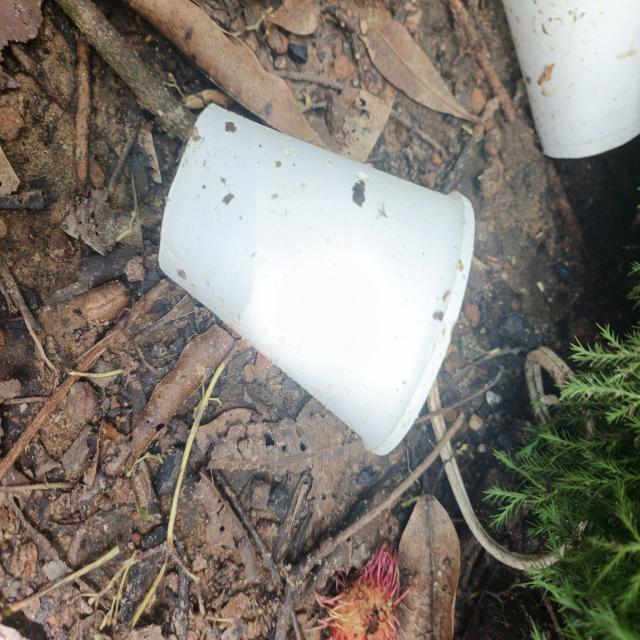plastic: (156, 89, 480, 459), (495, 0, 640, 169)
